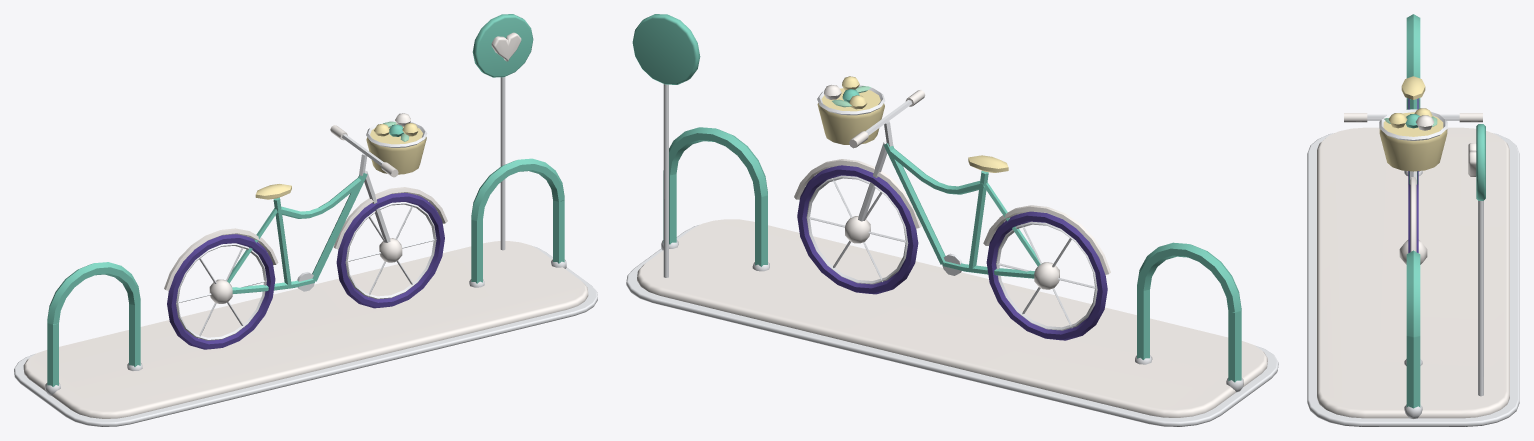
The model's file is bike_rack.glb.
3 views of the same model, side by side, from view 1: azimuth 30°, elevation 25°; view 2: azimuth 150°, elevation 25°; view 3: azimuth 270°, elevation 25° (orthographic). The views are drawn at different scales.
Visible parts, largest first — view 1: bike_rack; view 2: bike_rack; view 3: bike_rack.
Part boxes in pixels (x1=…): bike_rack: x1=14, y1=14, x2=597, y2=426; bike_rack: x1=626, y1=14, x2=1278, y2=426; bike_rack: x1=1307, y1=14, x2=1519, y2=426.
Bounding box in the file's own units: 3.6 × 1.6 × 1.1.
